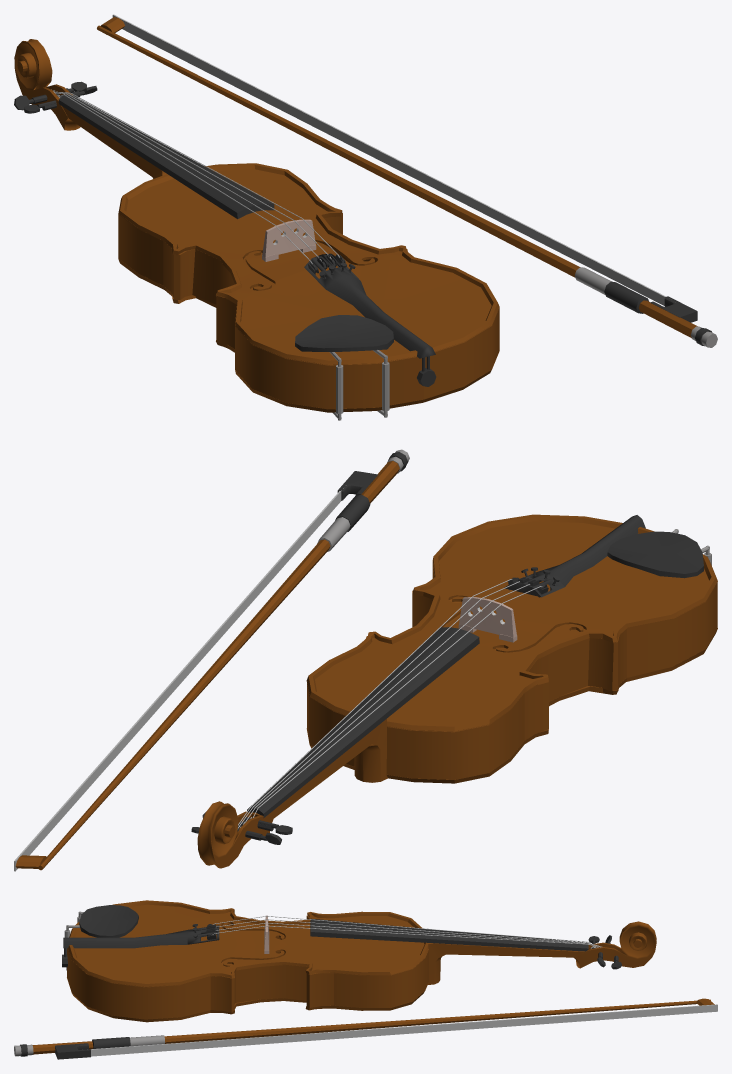
The model's file is final low poly character333.fbx.
3 renders of one model, top to bottom at view 1: azimuth 30°, elevation 25°; view 2: azimuth 150°, elevation 25°; view 3: azimuth 270°, elevation 25°, orthographic. The views are drawn at different scales.
Parts seen in each view (by area): view 1: Violin, Violin.001; view 2: Violin, Violin.001; view 3: Violin, Violin.001.
Boxes of the visible parts, bbox=[...] form: Violin: bbox=[14, 39, 499, 420]; Violin.001: bbox=[97, 14, 717, 347]; Violin: bbox=[191, 514, 717, 868]; Violin.001: bbox=[14, 449, 409, 871]; Violin: bbox=[62, 900, 656, 1022]; Violin.001: bbox=[14, 998, 717, 1059].
Size of the model in its own units: 3904 by 860 by 8421.
